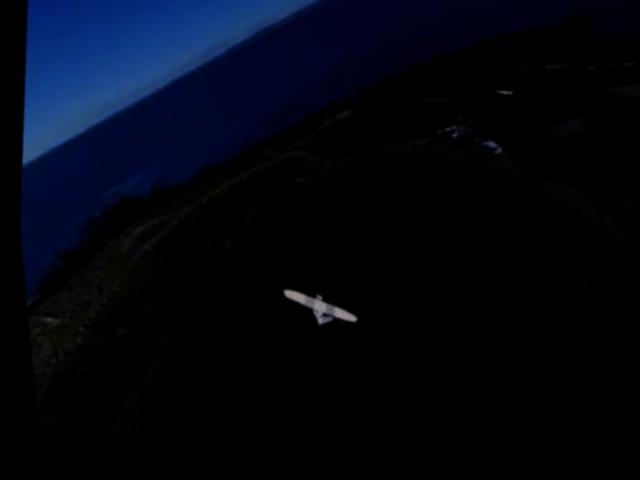uav: (270, 284, 355, 340)
